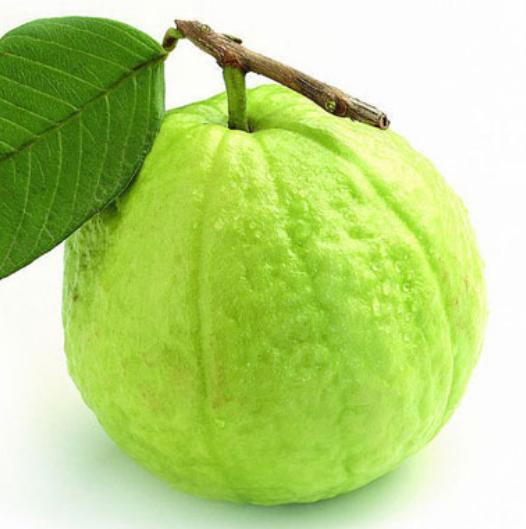guava_A: (61, 81, 487, 506)
